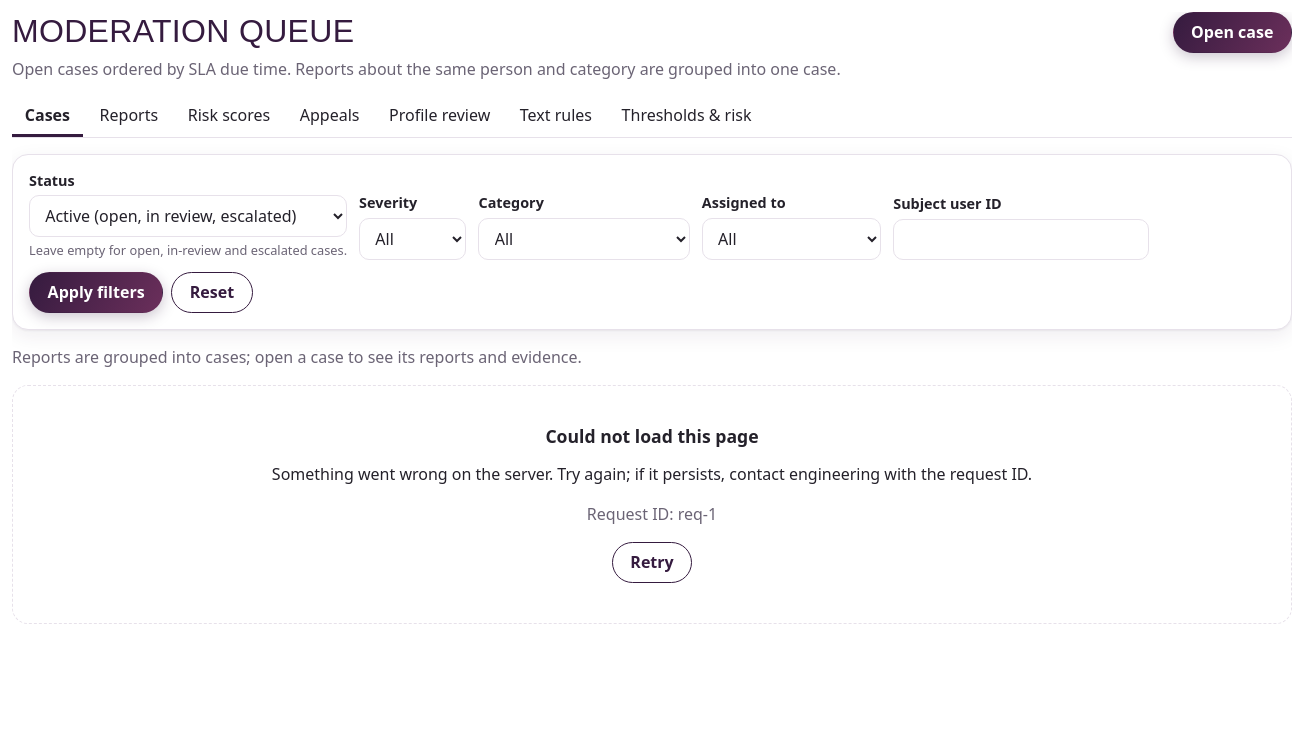
CasesPage › shows the empty state and the error state with retry
Expected: the text "Something went wrong on the server. Try again; if it persists, contact engineering with the request ID." is shown, [272, 464, 1032, 486]
Click the button "Retry".
click(652, 562)  # box [612, 542, 692, 583]
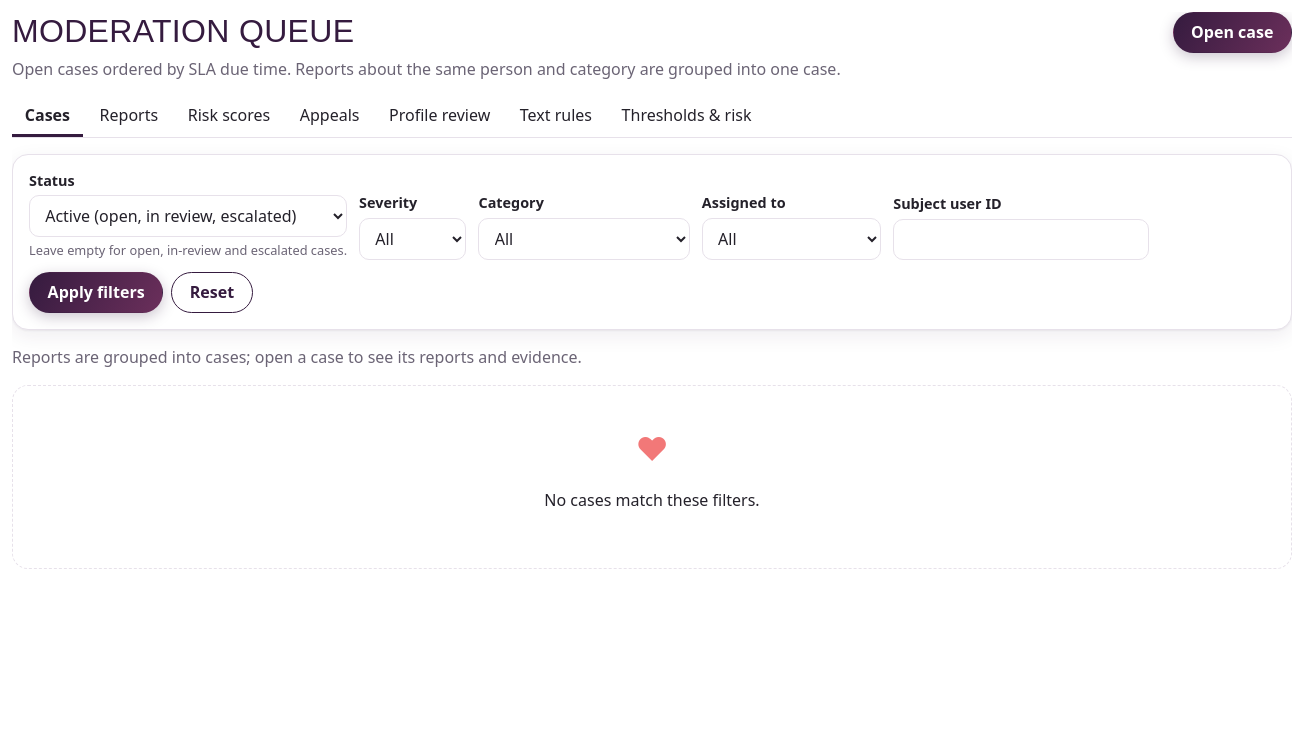
Expected: the text "No cases match these filters." is shown, [544, 489, 760, 511]
